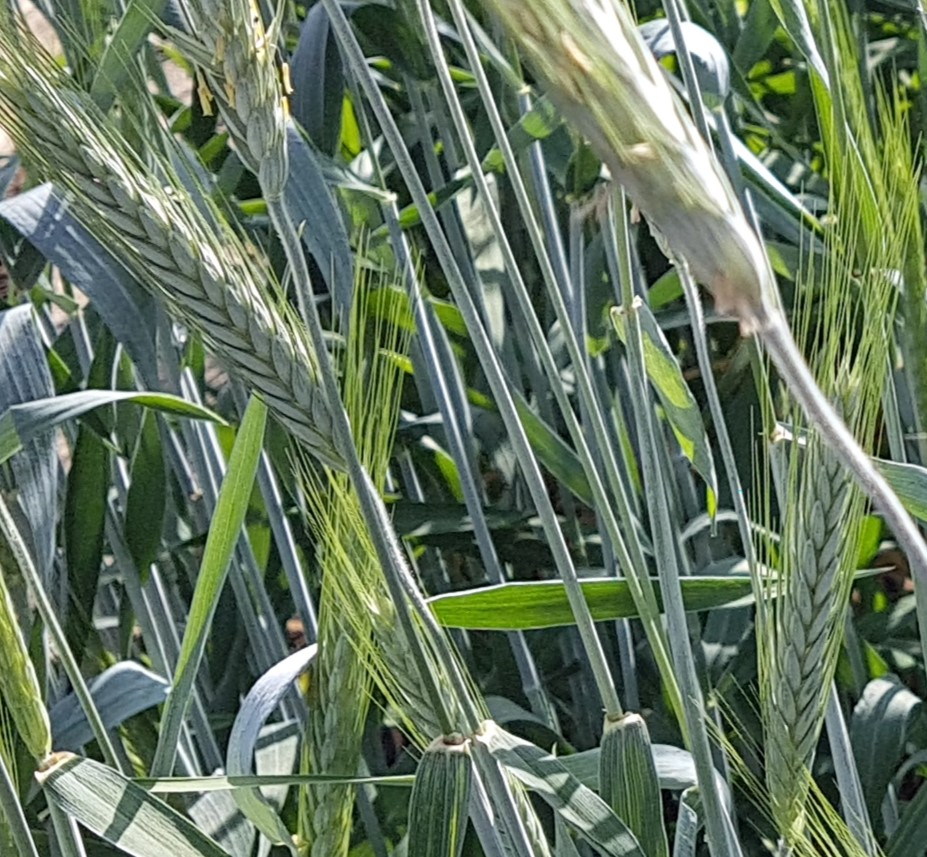Healthy Wheat: (759, 359, 876, 794)
